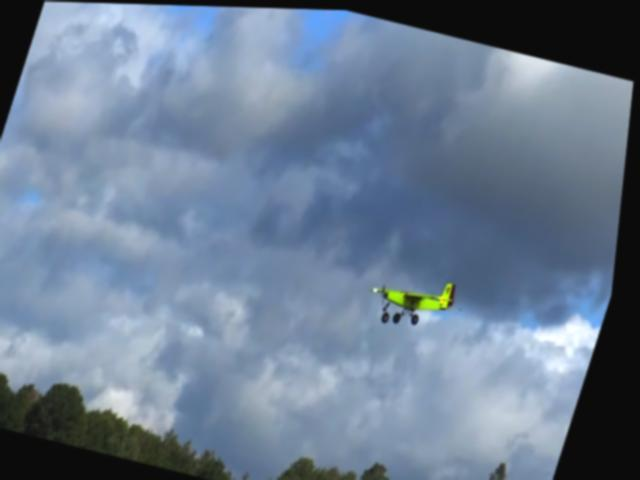plane: (367, 263, 477, 337)
